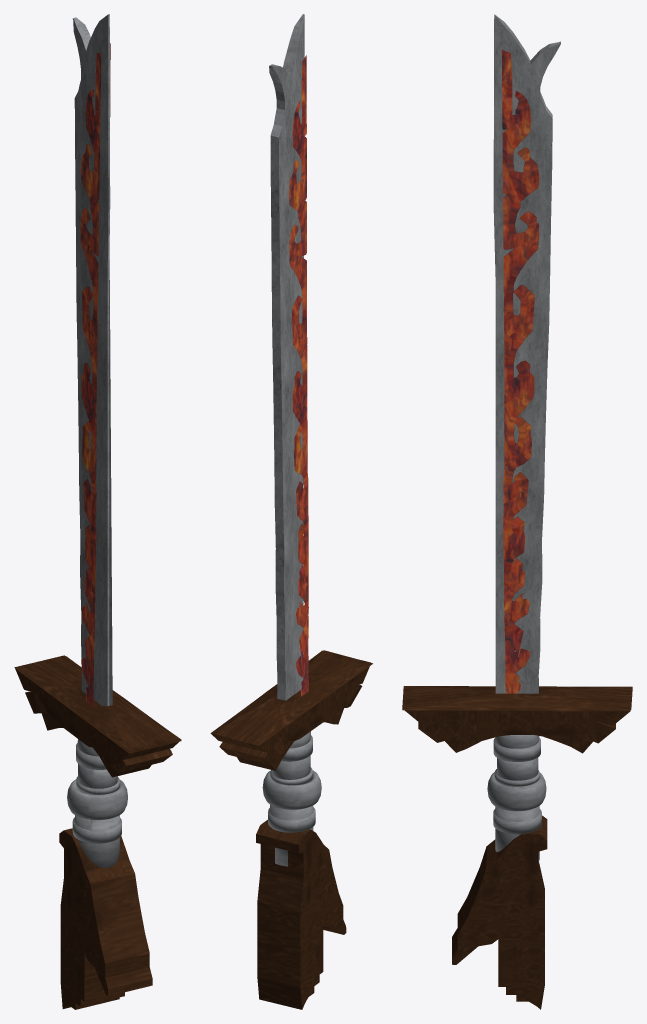
Rendered from Kampilan2.fbx.
The picture shows the model from 3 angles, left to right: view 1: azimuth 30°, elevation 25°; view 2: azimuth 150°, elevation 25°; view 3: azimuth 270°, elevation 25°; orthographic projection. The views are drawn at different scales.
Visible parts, largest first — view 1: Plane.002, Plane.006, Plane.001, Plane.005, Plane.004; view 2: Plane.002, Plane.006, Plane.001, Plane.005, Plane.004; view 3: Plane.002, Plane, Plane.001, Plane.006, Plane.004.
Boxes of the visible parts, box(x1,y1,x2,y2) form: Plane.002: box(72, 14, 112, 706); Plane.006: box(59, 828, 152, 1009); Plane.001: box(14, 655, 181, 777); Plane.005: box(80, 52, 101, 706); Plane.004: box(67, 739, 127, 867); Plane.002: box(269, 14, 304, 700); Plane.006: box(256, 820, 346, 1009); Plane.001: box(210, 650, 372, 770); Plane.005: box(289, 55, 308, 696); Plane.004: box(262, 731, 321, 866); Plane.002: box(493, 14, 560, 693); Plane: box(501, 50, 539, 693); Plane.001: box(402, 686, 632, 753); Plane.006: box(452, 815, 547, 1009); Plane.004: box(487, 735, 546, 862).
Size of the model in its own units: 100 by 1818 by 386.
4 materials, 4 textured.
